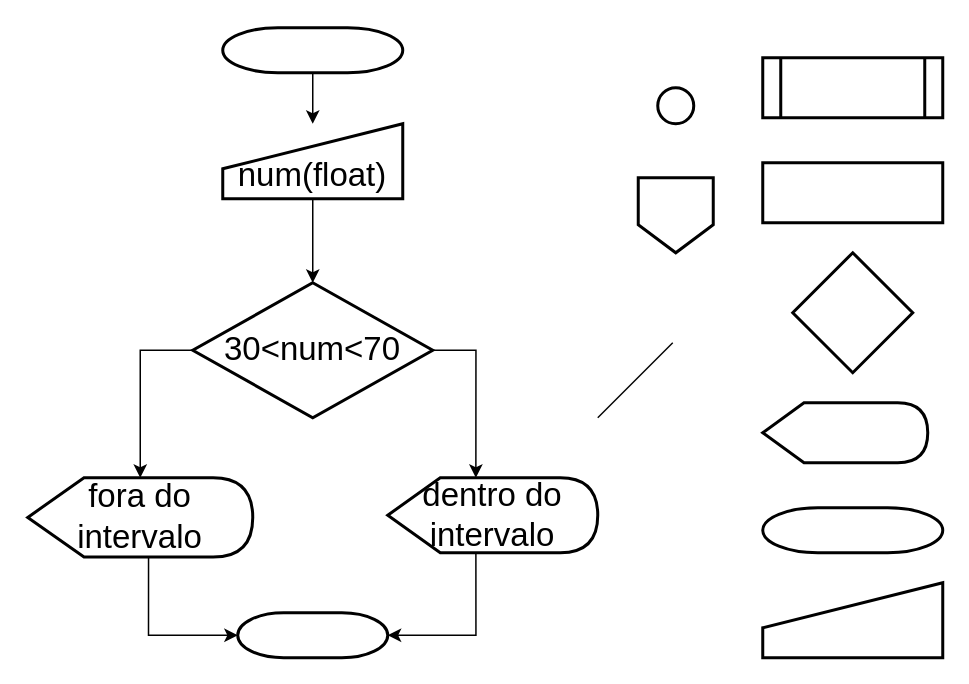
This 969x684 diagram has some shape labels left out. The centre of each missing label's shape, as x and y in pixels:
"fim" goes at pixel 312 634.
"Início" goes at pixel 312 50.
